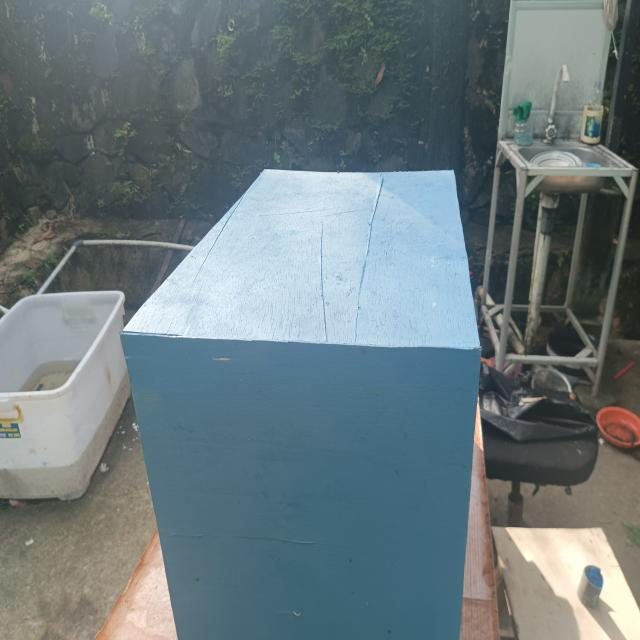blue_box: (123, 172, 479, 640)
